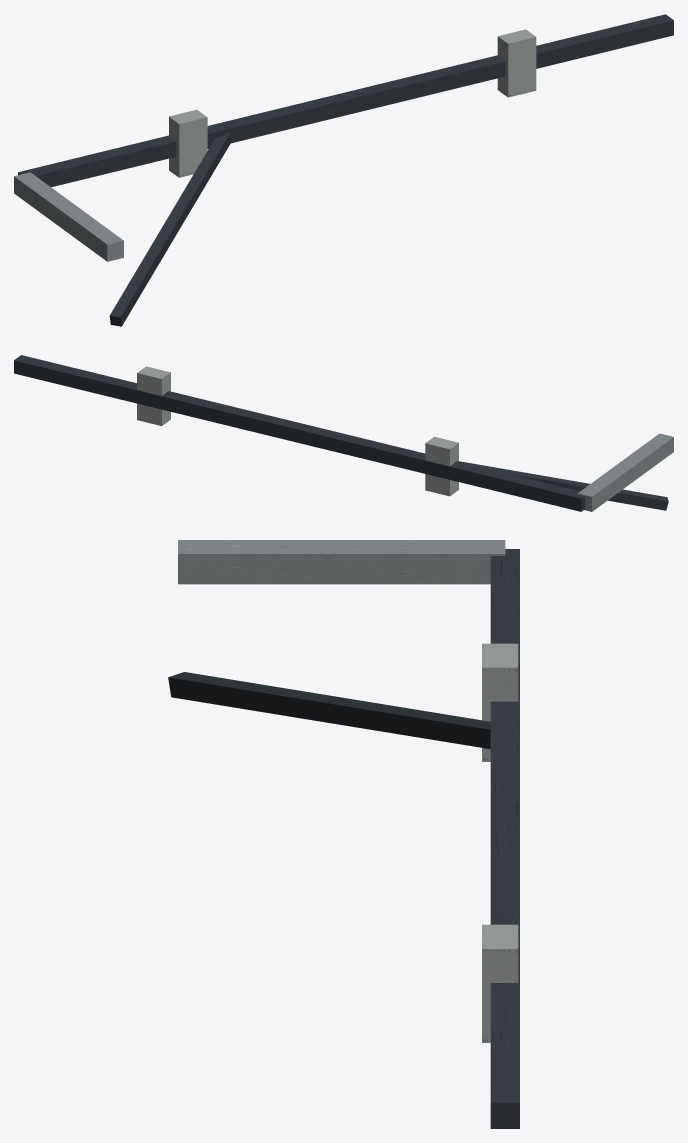
Rendered from SolarMount.fbx.
3 views of the same model, one above another, from view 1: azimuth 30°, elevation 25°; view 2: azimuth 150°, elevation 25°; view 3: azimuth 270°, elevation 25° (orthographic). The views are drawn at different scales.
Parts seen in each view (by area): view 1: SolarMount; view 2: SolarMount; view 3: SolarMount.
Part boxes in pixels (x1=…): SolarMount: x1=14, y1=14, x2=673, y2=326; SolarMount: x1=14, y1=355, x2=673, y2=511; SolarMount: x1=168, y1=540, x2=519, y2=1128.
Size of the model in its own units: 1276 by 190 by 338.
